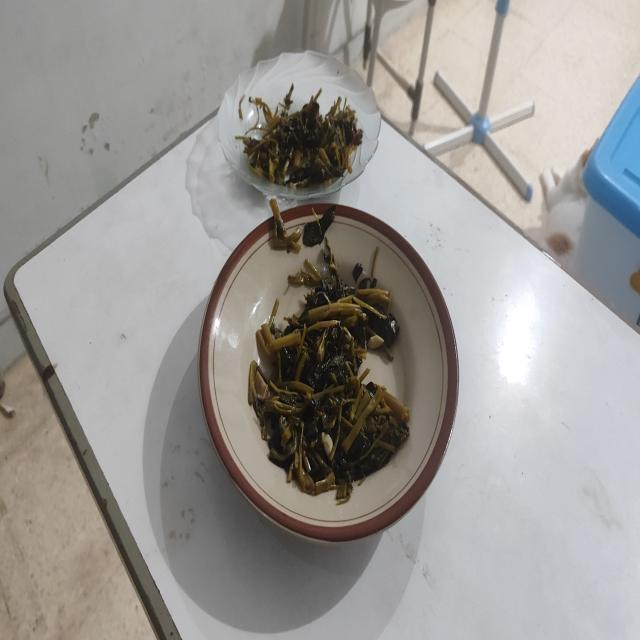tumis_kangkung: (248, 277, 410, 502), (235, 85, 362, 189)
